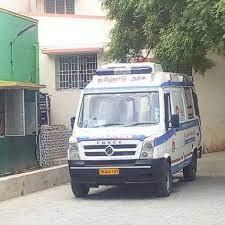ER: (69, 61, 201, 200)
